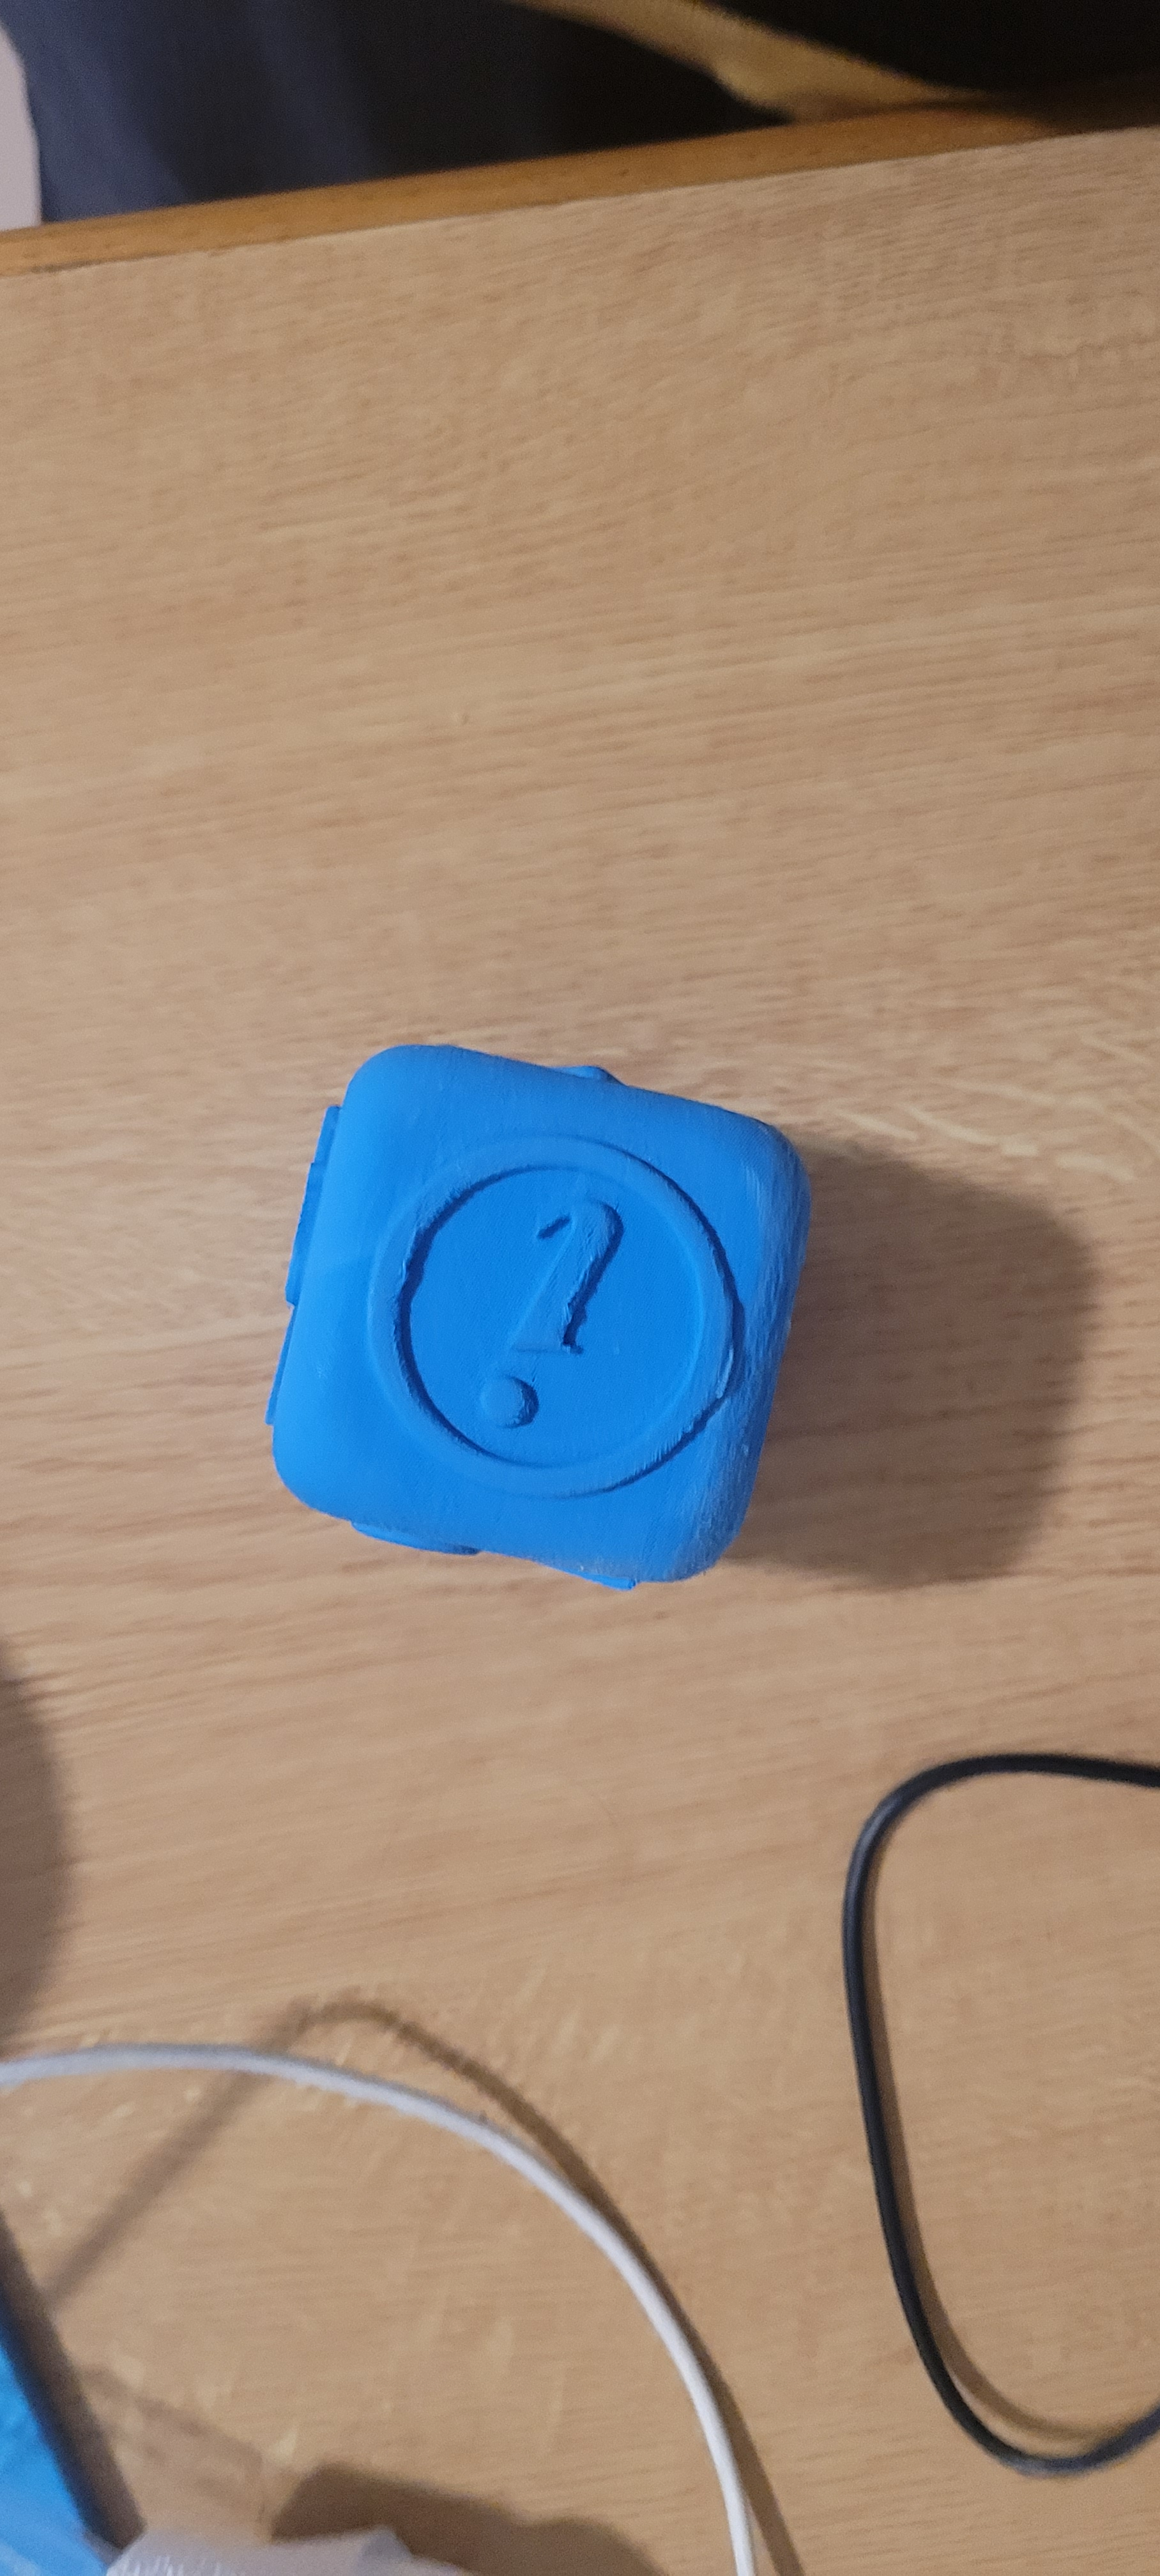Info: (363, 1099, 761, 1516)
